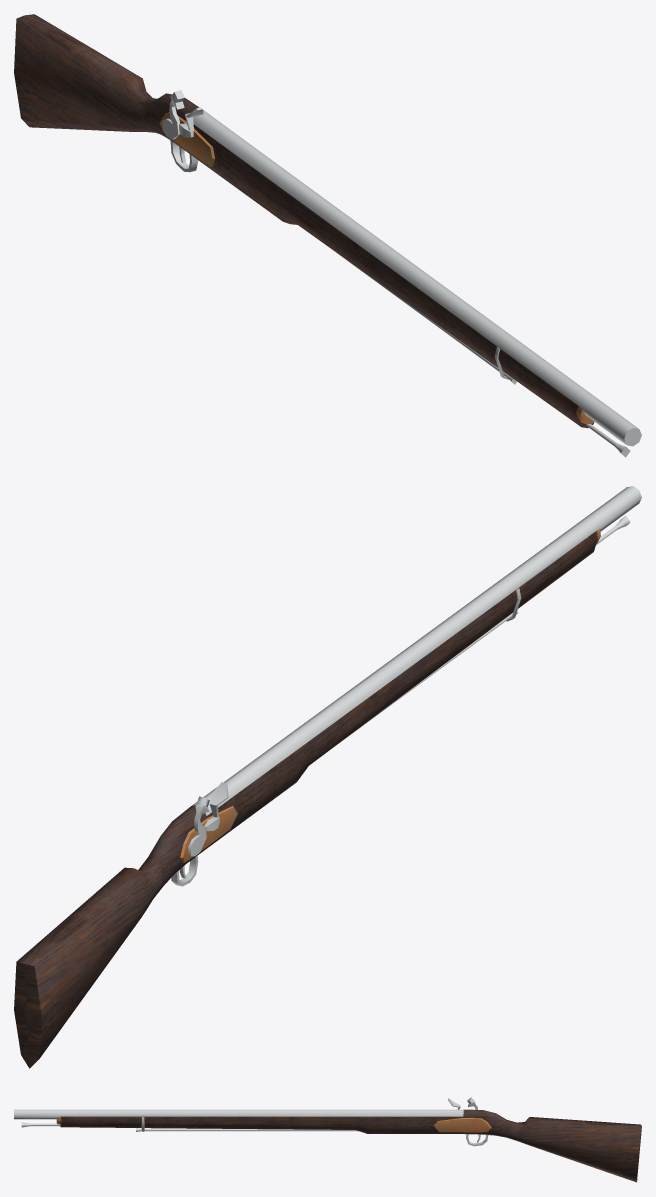
The model's file is 1205燧发枪.FBX.
3 renders of one model, top to bottom at view 1: azimuth 30°, elevation 25°; view 2: azimuth 150°, elevation 25°; view 3: azimuth 270°, elevation 25°, orthographic. The views are drawn at different scales.
Parts seen in each view (by area): view 1: 1205_BrownBess; view 2: 1205_BrownBess; view 3: 1205_BrownBess.
Boxes of the visible parts, x1=… form: 1205_BrownBess: x1=14, y1=14, x2=641, y2=457; 1205_BrownBess: x1=14, y1=486, x2=641, y2=1068; 1205_BrownBess: x1=14, y1=1097, x2=641, y2=1182.
Bounding box in the file's own units: 3.88 × 17.01 × 119.
1 material, 1 textured.
